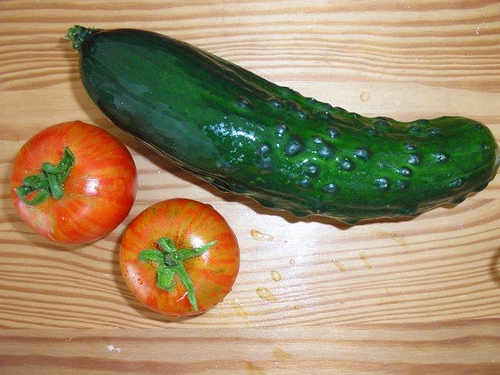cucumber: (67, 21, 499, 231)
